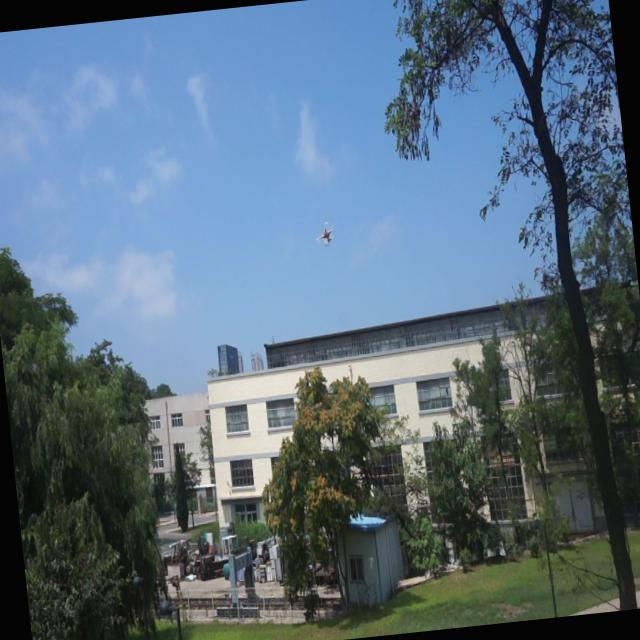drone: (310, 216, 338, 250)
